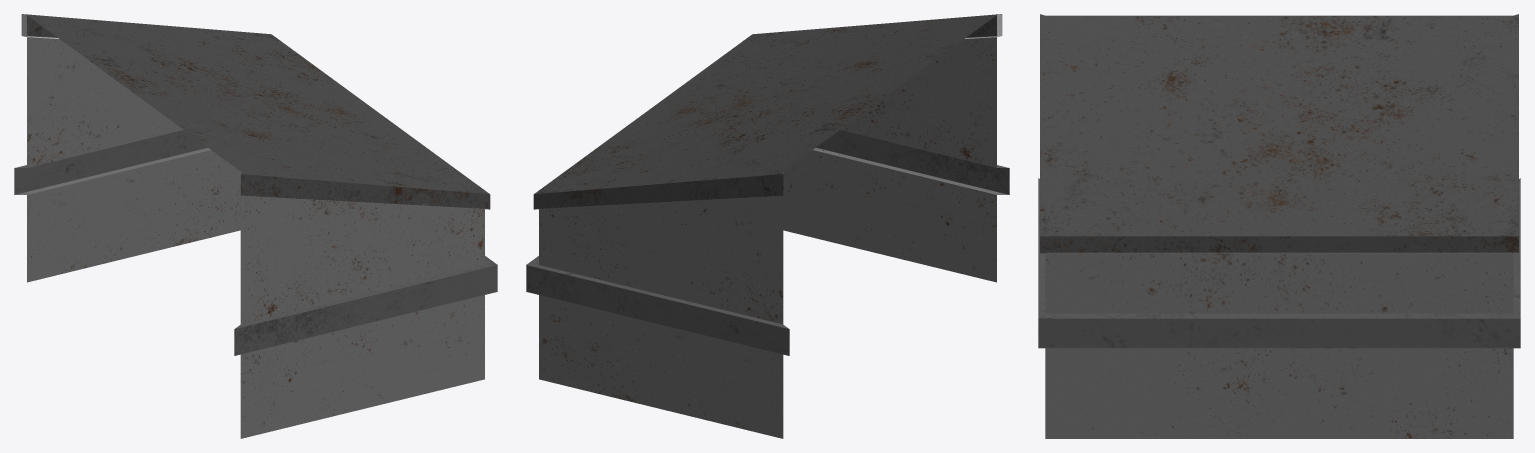
File: trash_can.fbx
3 views of the same model, side by side, from view 1: azimuth 30°, elevation 25°; view 2: azimuth 150°, elevation 25°; view 3: azimuth 270°, elevation 25° (orthographic). The views are drawn at different scales.
Parts seen in each view (by area): view 1: trash_can_17; view 2: trash_can_17; view 3: trash_can_17.
Part boxes in pixels (left/top/right/bottom): trash_can_17: left=14, top=14, right=497, bottom=438; trash_can_17: left=526, top=14, right=1009, bottom=438; trash_can_17: left=1038, top=14, right=1520, bottom=438.
Size of the model in its own units: 62.61 by 60.73 by 90.59.
